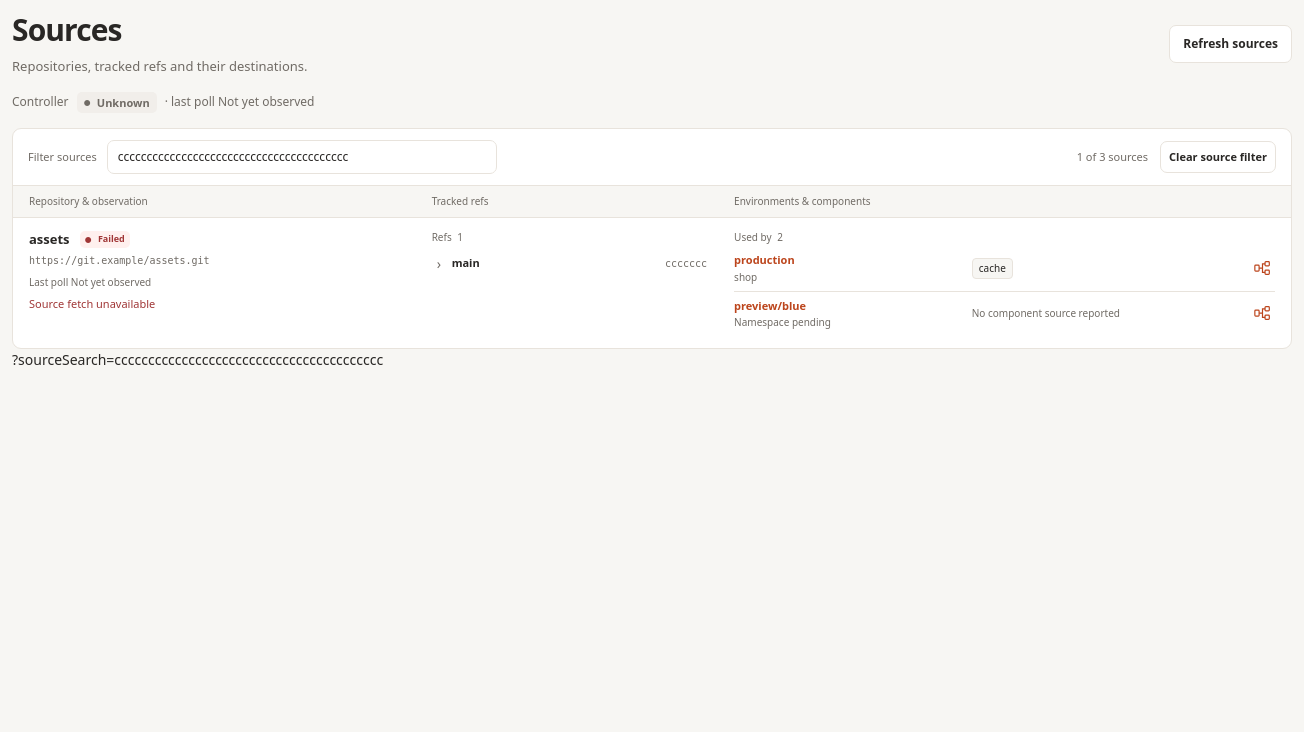
Test: compact source inventory › restores a full-revision search from the URL and clears to the complete inventory
This screenshot has width=1304, height=732.
Expected: the element named "Source assets" is shown, [13, 218, 1291, 348]
Step 1. Clear the search field labelled "Filter sources" → coordinates (302, 157), box [107, 140, 497, 174]
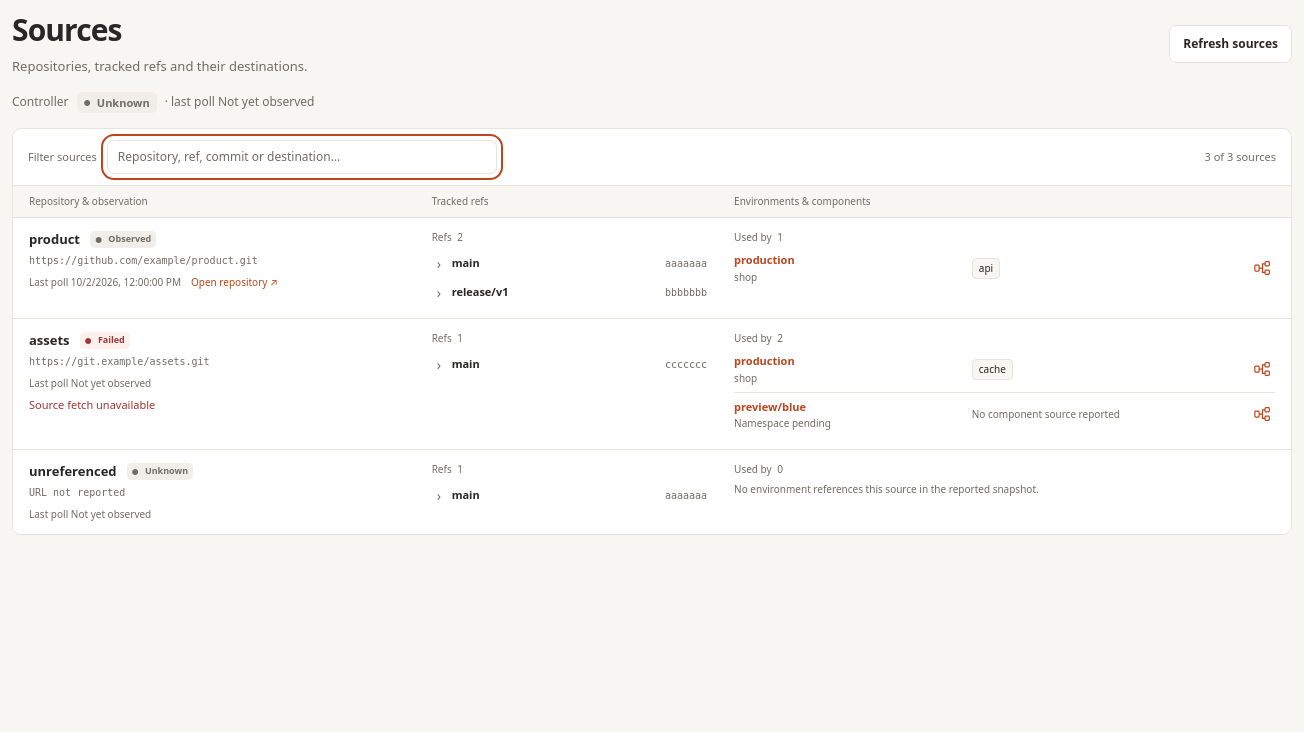
Now the element named "Source product" is shown, box [13, 218, 1291, 318]
Now the element named "Source unreferenced" is shown, box [13, 449, 1291, 534]
